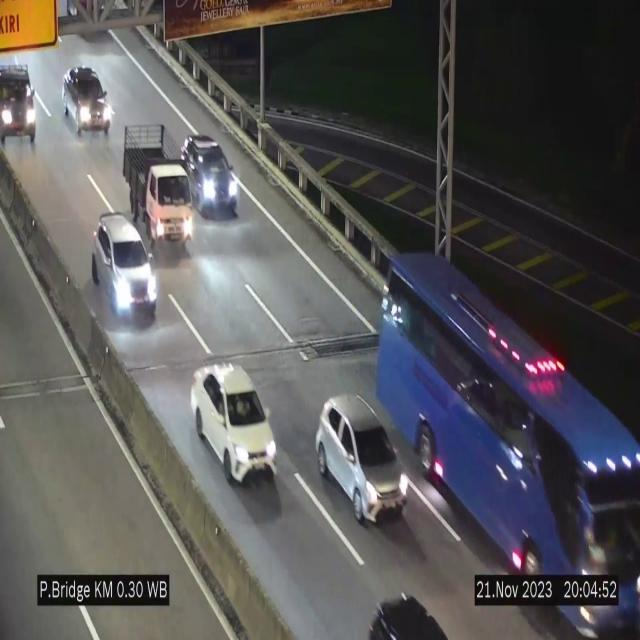Bus: (376, 250, 640, 639)
Car: (315, 395, 409, 524), (191, 362, 277, 482), (92, 215, 158, 320), (183, 135, 245, 229), (362, 580, 458, 640), (0, 48, 45, 151), (60, 63, 112, 140)
Truck: (122, 125, 192, 249)
